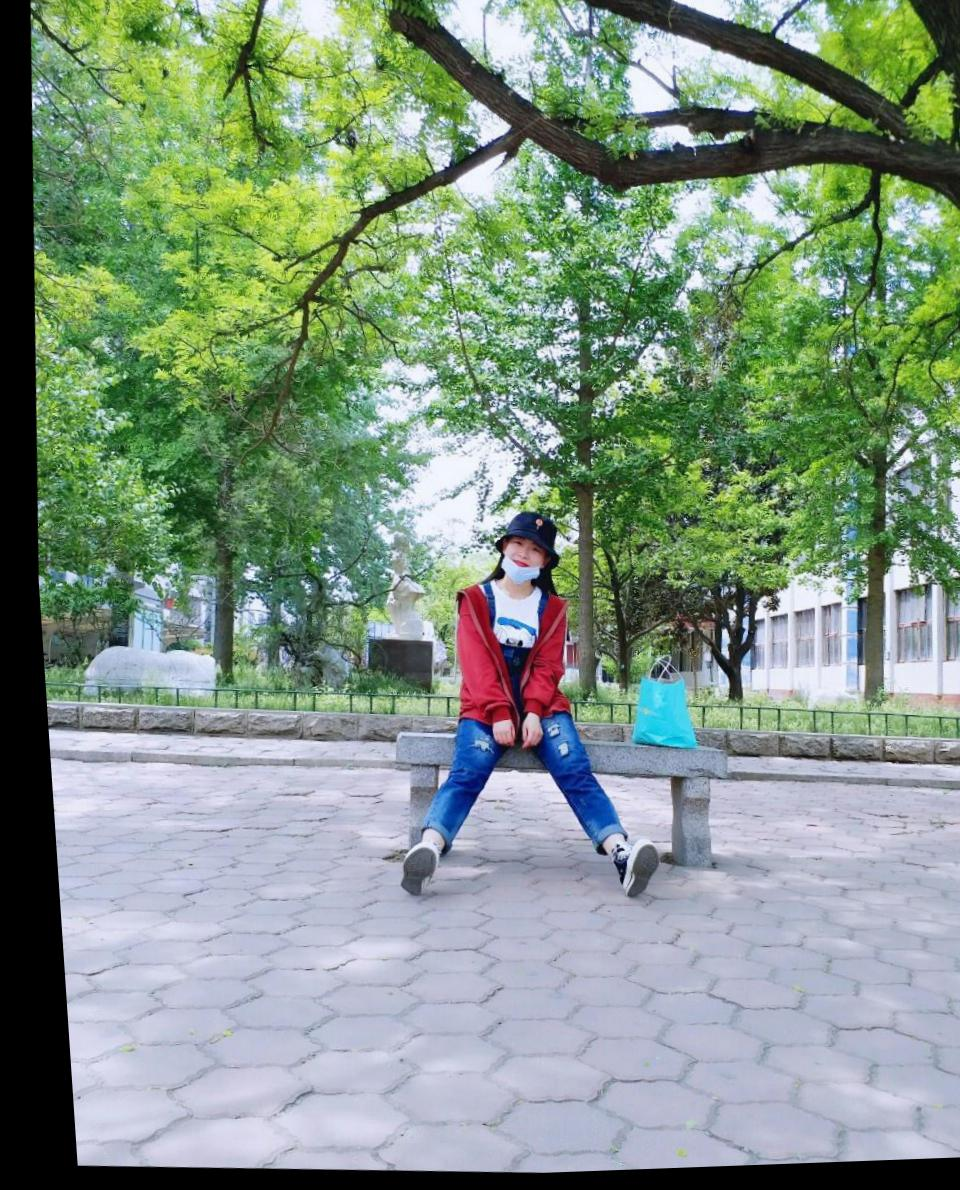WRONG: (490, 537, 544, 589)
